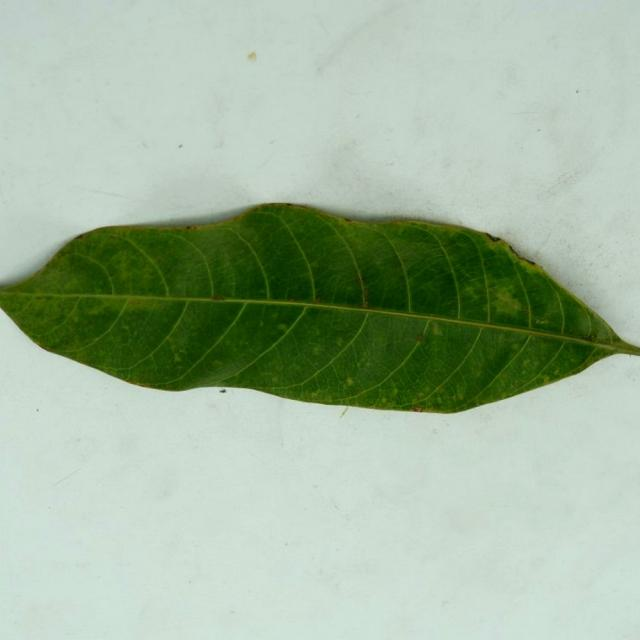Mango: (0, 203, 639, 412)
Powdery_Mildew: (101, 245, 159, 285), (496, 285, 522, 318), (459, 281, 488, 303), (12, 292, 75, 302), (272, 202, 324, 212), (128, 380, 171, 390), (36, 345, 67, 358), (85, 303, 106, 316), (515, 254, 537, 266), (429, 323, 444, 336), (385, 220, 408, 226), (361, 287, 369, 304), (486, 233, 501, 242), (586, 331, 598, 342), (508, 245, 520, 255), (212, 359, 223, 368), (415, 333, 426, 342), (211, 294, 225, 301), (389, 388, 398, 398), (312, 346, 321, 355), (173, 353, 182, 362), (335, 337, 344, 346), (511, 343, 521, 351), (542, 375, 551, 383), (345, 377, 354, 385), (311, 261, 320, 269), (277, 324, 287, 331), (75, 233, 85, 240), (412, 406, 423, 412), (522, 359, 530, 367), (271, 374, 279, 382), (436, 386, 444, 394), (313, 390, 322, 397), (380, 397, 388, 404), (553, 368, 561, 375), (456, 393, 464, 400), (360, 275, 368, 282), (343, 217, 353, 222), (123, 323, 130, 330), (314, 296, 321, 303), (185, 225, 194, 230), (429, 313, 437, 318), (259, 321, 264, 327), (483, 261, 488, 267), (289, 298, 296, 302), (628, 353, 633, 358)
